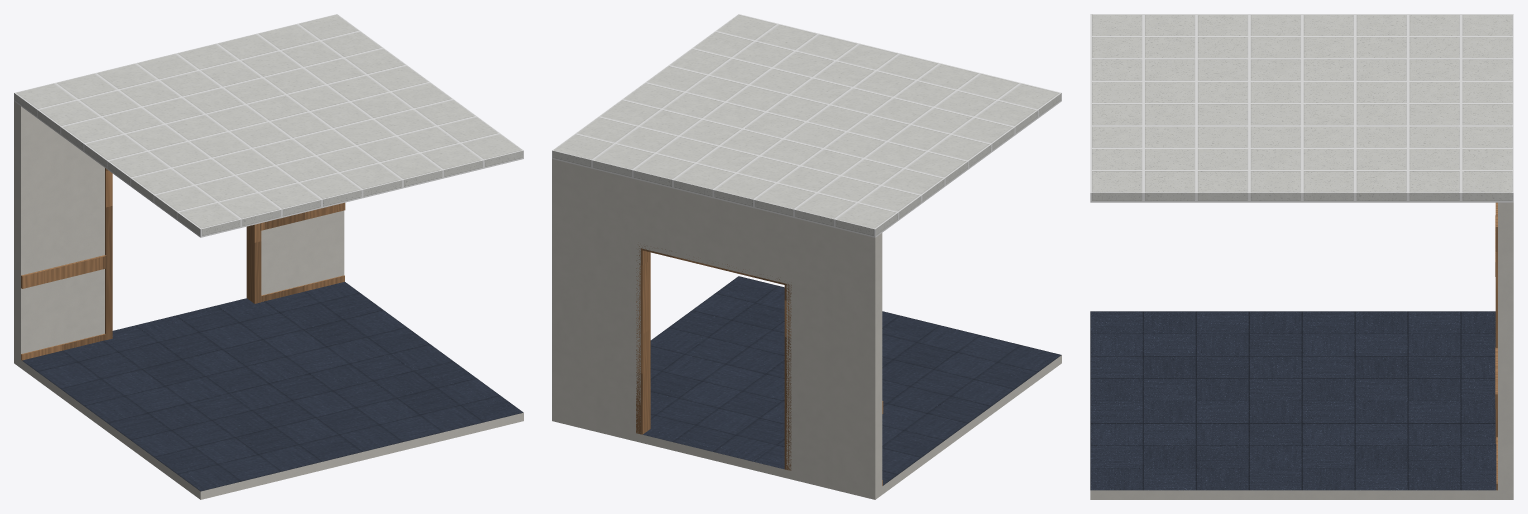
File: Room_Office_Door_NoLight.glb
3 renders of one model, left to right at view 1: azimuth 30°, elevation 25°; view 2: azimuth 150°, elevation 25°; view 3: azimuth 270°, elevation 25°, orthographic. The views are drawn at different scales.
Visible parts, largest first — view 1: Room_Office_Door_NoLight, Room_Office_Door_NoLight_Ceiling; view 2: Room_Office_Door_NoLight, Room_Office_Door_NoLight_Ceiling; view 3: Room_Office_Door_NoLight, Room_Office_Door_NoLight_Ceiling.
Boxes of the visible parts, bbox=[...] form: Room_Office_Door_NoLight: bbox=[14, 101, 523, 499]; Room_Office_Door_NoLight_Ceiling: bbox=[14, 14, 523, 237]; Room_Office_Door_NoLight: bbox=[552, 159, 1061, 499]; Room_Office_Door_NoLight_Ceiling: bbox=[552, 14, 1061, 237]; Room_Office_Door_NoLight: bbox=[1090, 202, 1513, 499]; Room_Office_Door_NoLight_Ceiling: bbox=[1090, 14, 1513, 202].
Bounding box in the file's own units: 4 × 3.2 × 4.
4 materials, 4 textured.
